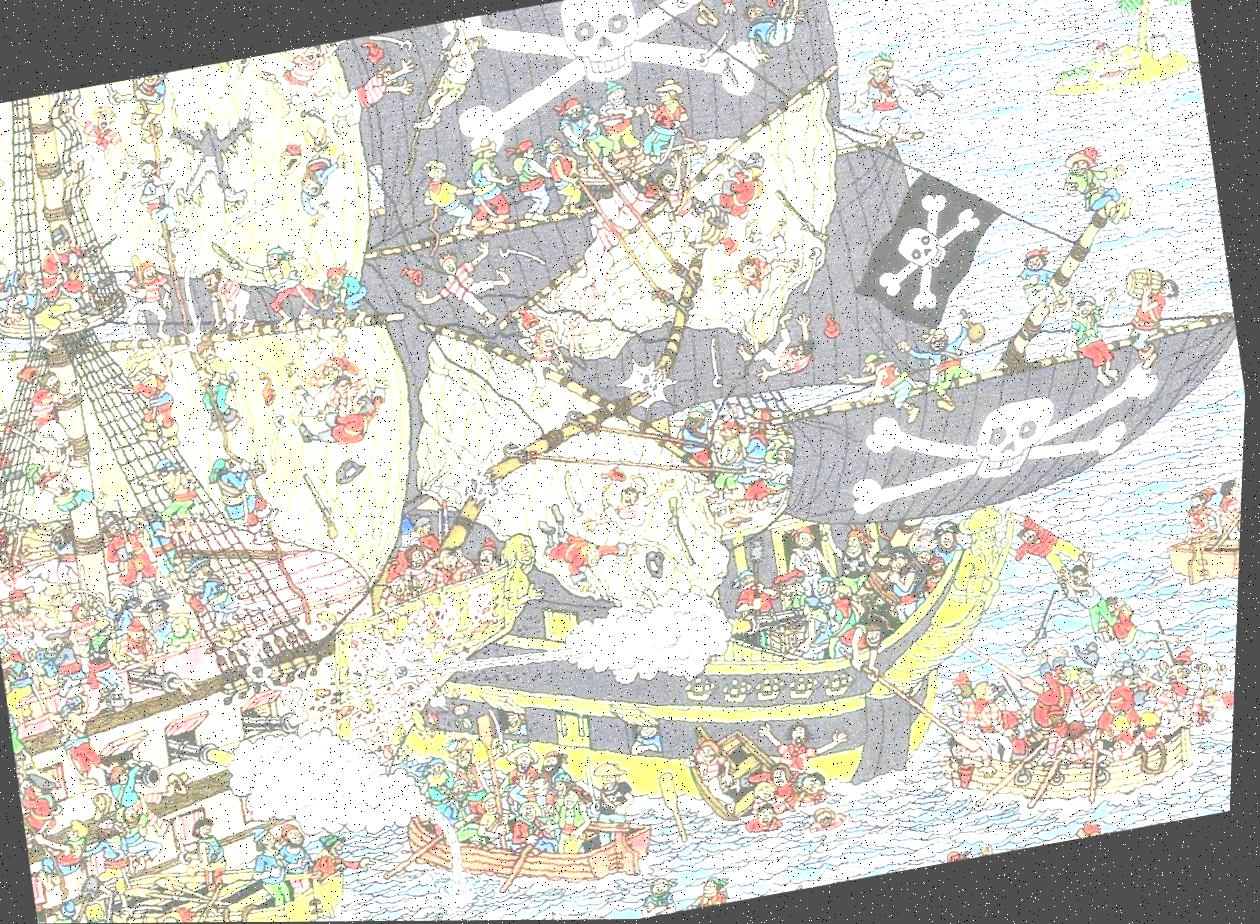waldo: (916, 526, 941, 553)
